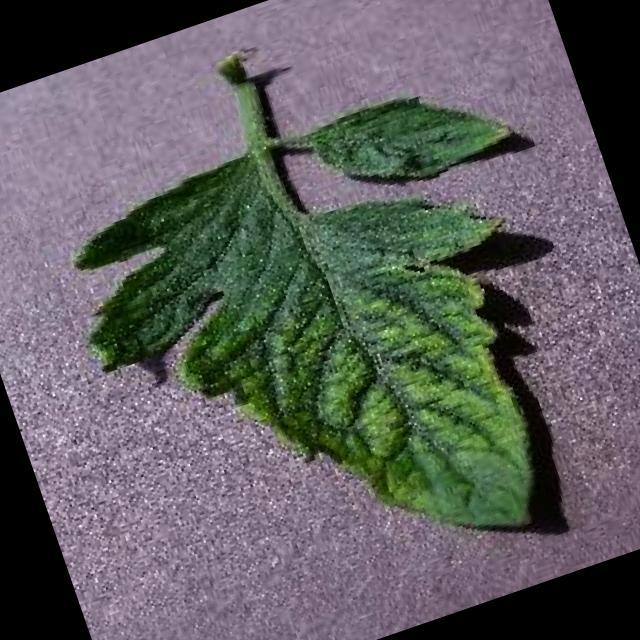Tomato mosaic virus leaf: (40, 66, 637, 640)
